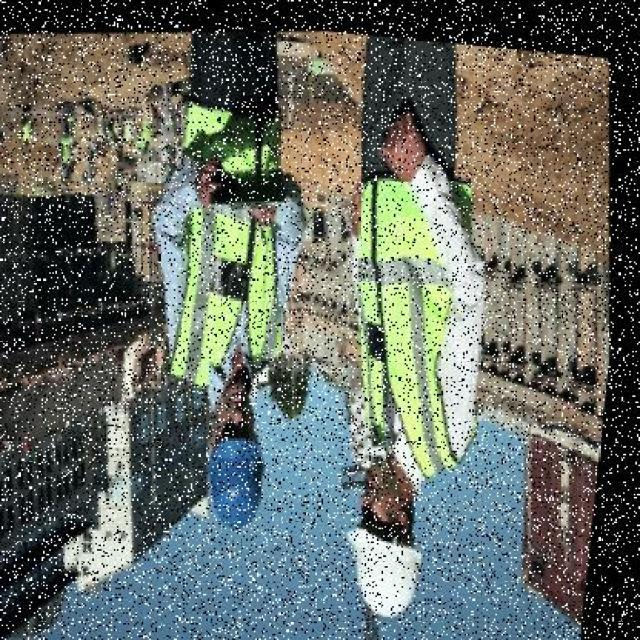helmet: (343, 500, 442, 624), (200, 409, 285, 531)
vest: (139, 73, 318, 394), (332, 148, 500, 470)
